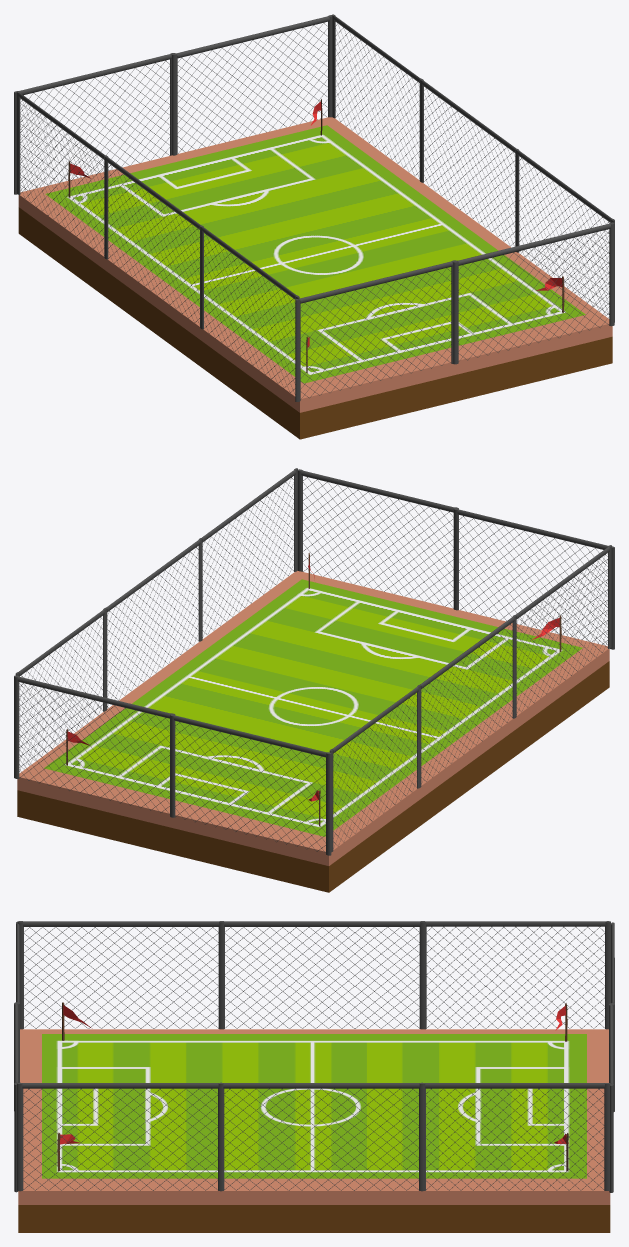
The model's file is field3_1.glb.
3 views of the same model, one above another, from view 1: azimuth 30°, elevation 25°; view 2: azimuth 150°, elevation 25°; view 3: azimuth 270°, elevation 25° (orthographic). The views are drawn at different scales.
Parts seen in each view (by area): view 1: Cube, Cube_football_field_0.001, Null_2_1__0.003, Null_2_1__0.002, Null_2_1__0.004, Null_2_1__0.005, Null_1_1__0.001, Null_1_1, Null_2_1__0.001, Null_2_1, Null_0_1__0.001, Null_0_1; view 2: Cube, Cube_football_field_0.001, Null_2_1__0.005, Null_2_1__0.004, Null_2_1__0.002, Null_2_1__0.003, Null_1_1__0.001, Null_1_1, Null_0_1, Null_0_1__0.001, Null_2_1__0.001, Null_2_1; view 3: Cube, Cube_football_field_0.001, Null_1_1__0.001, Null_1_1, Null_0_1, Null_0_1__0.001, Null_2_1__0.001, Null_2_1, Null_2_1__0.002, Null_2_1__0.003, Null_2_1__0.005, Null_2_1__0.004.
Part boxes in pixels (box(x1,y1,x2,y2)): Cube: box(18, 125, 612, 439); Cube_football_field_0.001: box(20, 117, 609, 398); Null_2_1__0.003: box(453, 222, 614, 364); Null_2_1__0.002: box(172, 15, 332, 155); Null_2_1__0.004: box(295, 260, 456, 401); Null_2_1__0.005: box(14, 53, 174, 194); Null_1_1__0.001: box(104, 155, 202, 328); Null_1_1: box(420, 79, 519, 252); Null_2_1__0.001: box(16, 91, 107, 257); Null_2_1: box(332, 14, 422, 180); Null_0_1__0.001: box(200, 225, 299, 394); Null_0_1: box(515, 149, 614, 322); Cube: box(17, 579, 609, 892); Cube_football_field_0.001: box(19, 571, 607, 851); Null_2_1__0.005: box(170, 715, 331, 855); Null_2_1__0.004: box(453, 508, 614, 649); Null_2_1__0.002: box(14, 675, 175, 814); Null_2_1__0.003: box(298, 469, 458, 608); Null_1_1__0.001: box(417, 615, 516, 787); Null_1_1: box(103, 538, 202, 710); Null_0_1: box(199, 468, 297, 637); Null_0_1__0.001: box(513, 545, 611, 714); Null_2_1__0.001: box(329, 685, 419, 852); Null_2_1: box(15, 608, 105, 771); Cube: box(18, 1034, 610, 1232); Cube_football_field_0.001: box(20, 1029, 608, 1190); Null_1_1__0.001: box(219, 921, 425, 1029); Null_1_1: box(218, 1082, 424, 1191); Null_0_1: box(17, 1082, 222, 1191); Null_0_1__0.001: box(17, 921, 223, 1029); Null_2_1__0.001: box(421, 921, 610, 1029); Null_2_1: box(421, 1083, 610, 1190); Null_2_1__0.002: box(609, 1003, 613, 1192); Null_2_1__0.003: box(14, 1002, 18, 1192); Null_2_1__0.005: box(611, 922, 614, 1111); Null_2_1__0.004: box(16, 921, 19, 1082).
Size of the model in its own units: 302 by 129 by 467.
Materials: 8 (2 with a texture image).
